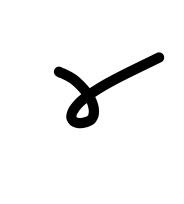t: (87, 41, 172, 109)
